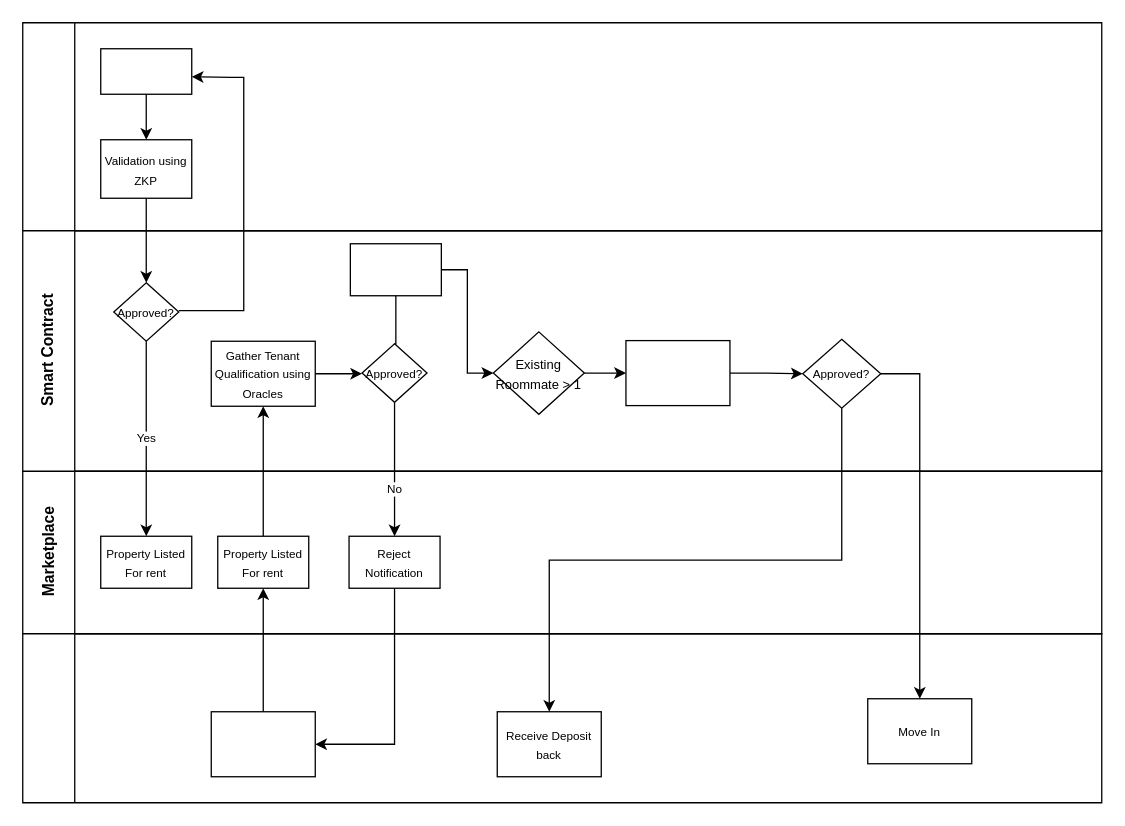
The diagram is 1125 pixels wide and 826 high, and some of its shapes have lost their labels. Each missing label, with the box of its shape:
Apply (Application Fee): (210, 710, 315, 777)
Landlord: (21, 21, 1102, 231)
List House: (99, 47, 192, 94)
Pay Deposit: (349, 242, 441, 296)
Roomate Approval using Multi Party Consensus: (625, 339, 730, 406)
Roommate/Tenant: (21, 632, 1102, 803)
